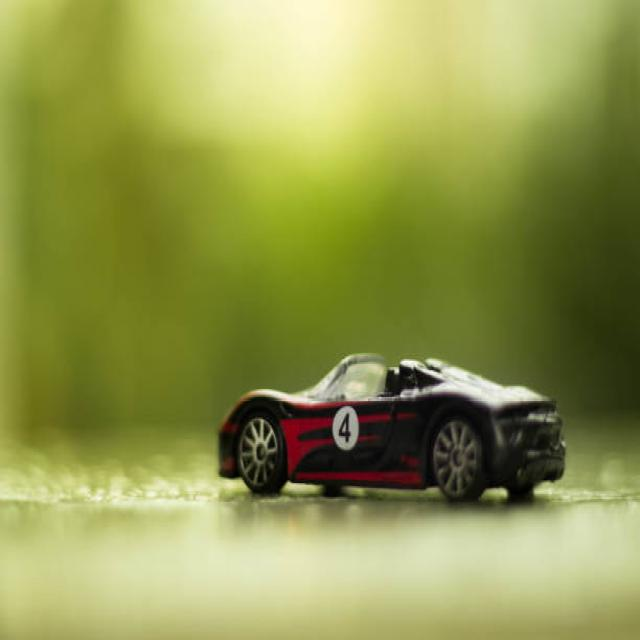Car: (219, 356, 565, 499)
